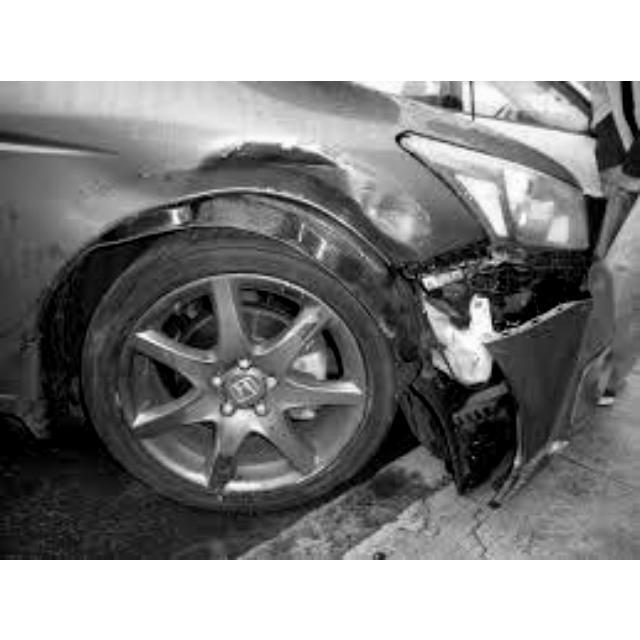fender-dent: (22, 127, 400, 255)
front-bumper-dent: (440, 273, 612, 455)
